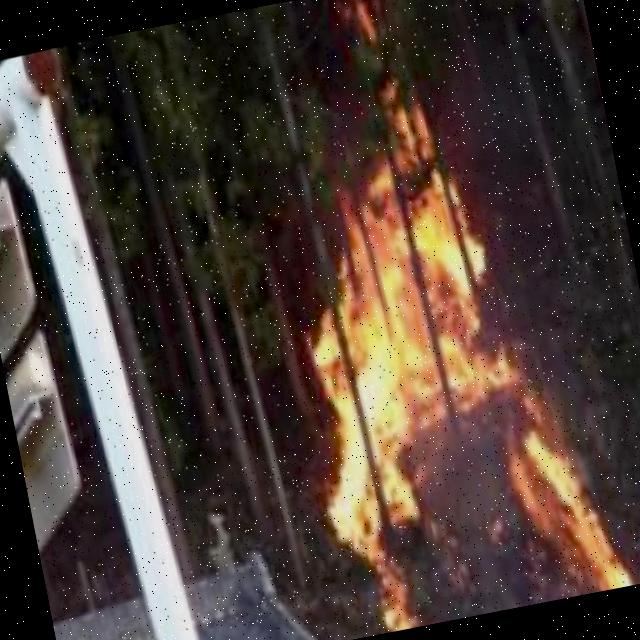fire: (243, 87, 634, 640)
